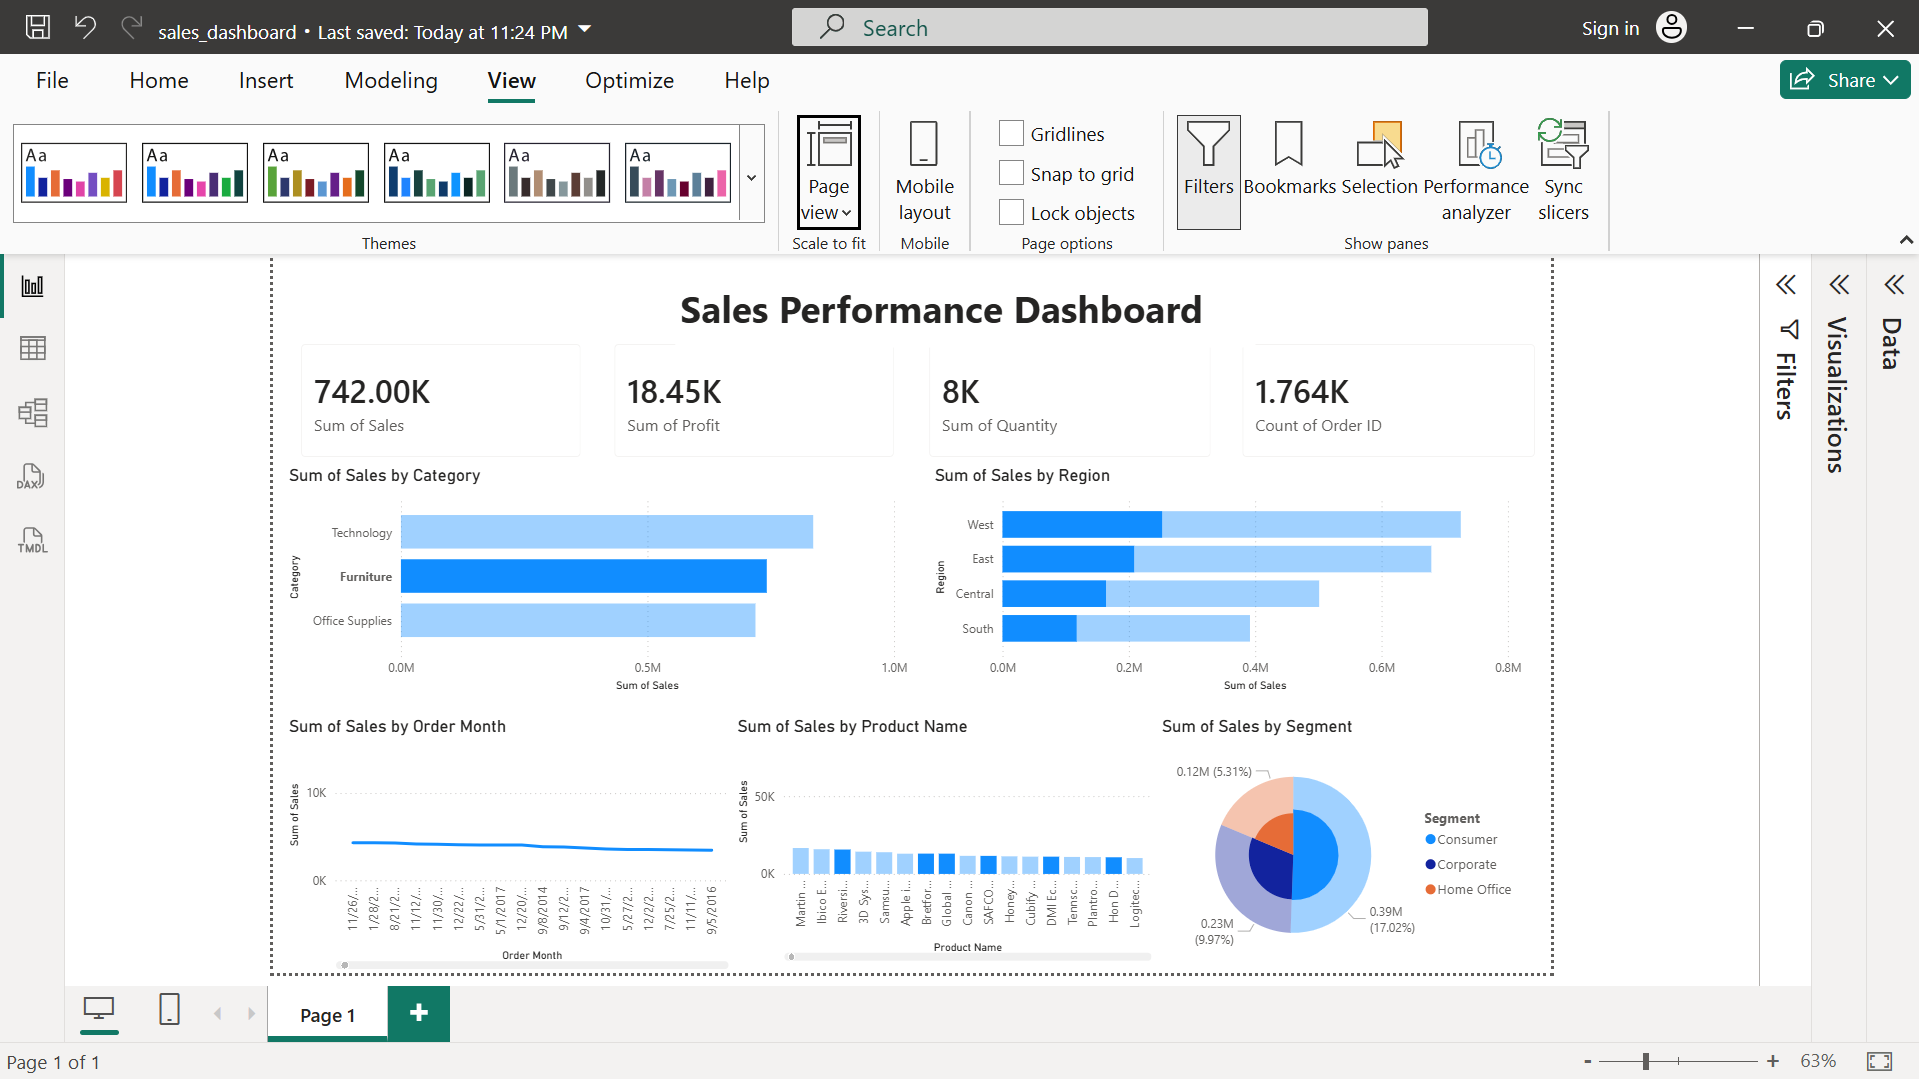

Layout of this report page (visuals, bound fields, positions):
{"tool":"powerbi","page":{"name":"Page 1","canvas":[1280,720],"ordinal":0},"visuals":[{"type":"cardVisual","fields":{"Data":["Sum(superstore_cleaned.Sales)"]},"box":[10.6,74,314.9,147.9],"z":0},{"type":"cardVisual","fields":{"Data":["Sum(superstore_cleaned.Profit)"]},"box":[325.4,74,314.9,147.9],"z":1000},{"type":"cardVisual","fields":{"Data":["Sum(superstore_cleaned.Quantity)"]},"box":[640.3,74,317,147.9],"z":2000},{"type":"cardVisual","fields":{"Data":["Count(superstore_cleaned.Order ID)"]},"box":[953.1,74,327.6,147.9],"z":3000},{"type":"clusteredBarChart","fields":{"Category":["superstore_cleaned.Region"],"Y":["Sum(superstore_cleaned.Sales)"]},"box":[657.2,211.3,598.1,230.3],"z":4000},{"type":"lineChart","fields":{"Y":["Sum(superstore_cleaned.Sales)"],"Category":["superstore_cleaned.Order Date"]},"box":[10.6,462.8,450.1,257.8],"z":5000},{"type":"pieChart","fields":{"Category":["superstore_cleaned.Segment"],"Y":["Sum(superstore_cleaned.Sales)"]},"box":[885.5,462.8,369.8,257.8],"z":6000},{"type":"clusteredColumnChart","fields":{"Category":["superstore_cleaned.Product Name"],"Y":["Sum(superstore_cleaned.Sales)"]},"box":[460.7,462.8,424.8,249.4],"z":7000},{"type":"textbox","box":[99.3,359.3,194.4,40.2],"z":9000},{"type":"clusteredBarChart","fields":{"Category":["superstore_cleaned.Category"],"Y":["Sum(superstore_cleaned.Sales)"]},"box":[10.6,211.3,629.8,230.3],"z":9001},{"type":"textbox","box":[403.6,23.2,581.2,69.7],"z":9002}]}

Visuals, with their boxes on the page's 1280x720 design canvas (x1, y1, x2, y2). These are canvas units, not pixel positions in the 1919x1079 screenshot, which may show the page scaled, cropped or inside an application window:
cardVisual - Sum(superstore_cleaned.Sales): 11, 74, 326, 222
cardVisual - Sum(superstore_cleaned.Profit): 325, 74, 640, 222
cardVisual - Sum(superstore_cleaned.Quantity): 640, 74, 957, 222
cardVisual - Count(superstore_cleaned.Order ID): 953, 74, 1281, 222
clusteredBarChart - superstore_cleaned.Region x Sum(superstore_cleaned.Sales): 657, 211, 1255, 442
lineChart - Sum(superstore_cleaned.Sales) x superstore_cleaned.Order Date: 11, 463, 461, 721
pieChart - superstore_cleaned.Segment x Sum(superstore_cleaned.Sales): 886, 463, 1255, 721
clusteredColumnChart - superstore_cleaned.Product Name x Sum(superstore_cleaned.Sales): 461, 463, 886, 712
textbox: 99, 359, 294, 400
clusteredBarChart - superstore_cleaned.Category x Sum(superstore_cleaned.Sales): 11, 211, 640, 442
textbox: 404, 23, 985, 93
